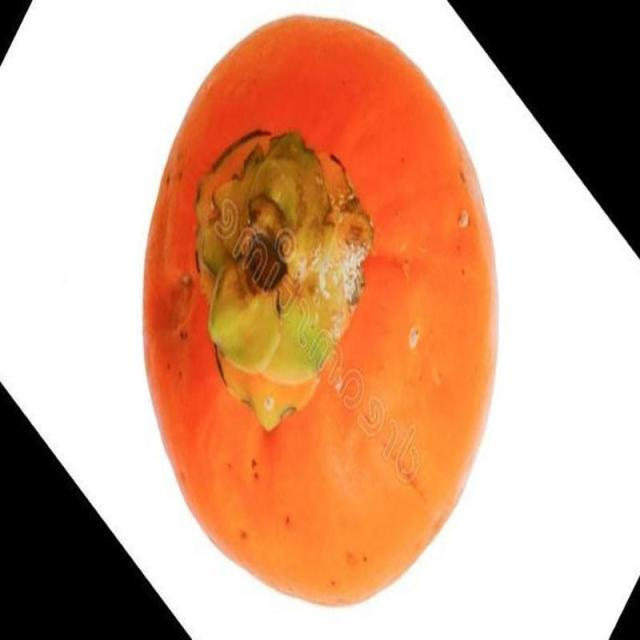good: (130, 13, 502, 610)
